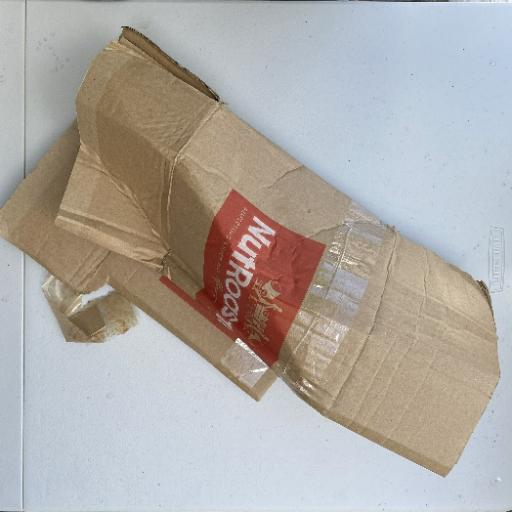Cardboard: (3, 24, 503, 479)
